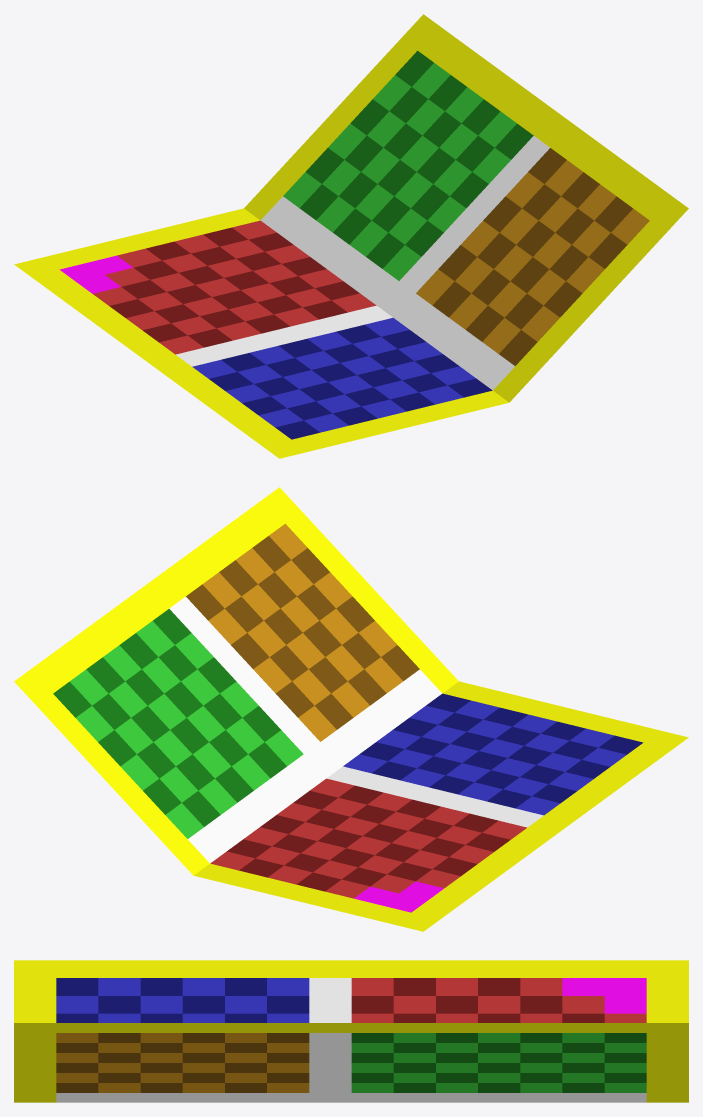
Rendered from pixel_art_declared_angle_ramp_16x16.obj.
The picture shows the model from 3 angles, top to bottom: view 1: azimuth 30°, elevation 25°; view 2: azimuth 150°, elevation 25°; view 3: azimuth 270°, elevation 25°; orthographic projection. The views are drawn at different scales.
Parts seen in each view (by area): view 1: pixel_art_declared_angle_ramp; view 2: pixel_art_declared_angle_ramp; view 3: pixel_art_declared_angle_ramp.
Part boxes in pixels (x1,y1,x2,y2): pixel_art_declared_angle_ramp: (14, 14, 688, 458); pixel_art_declared_angle_ramp: (14, 487, 688, 931); pixel_art_declared_angle_ramp: (14, 960, 688, 1102).
Size of the model in its own units: 14.24 by 5 by 16.
1 material, 1 textured.
